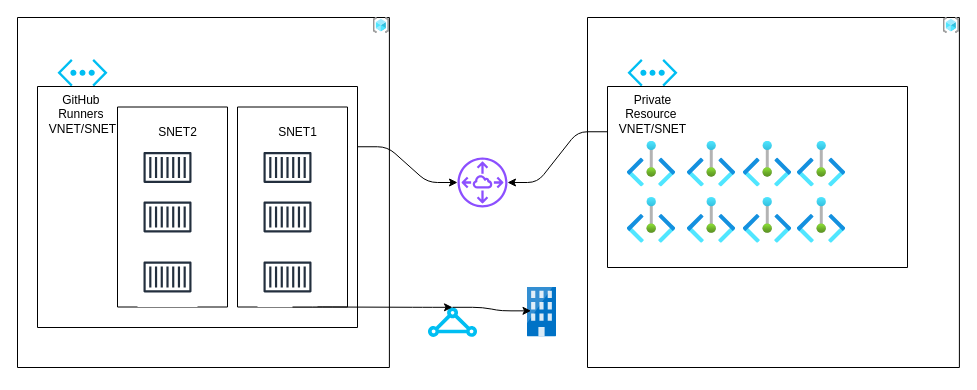
This 977x390 diagram has some shape labels left out. The shapes that lost their labels are listed below. From the top down, each one's box as (x1, y1, x2, y2) in pixels, then its label:
(457, 157, 507, 207): VNET Peer
(527, 286, 556, 336): On-Premises Assets
